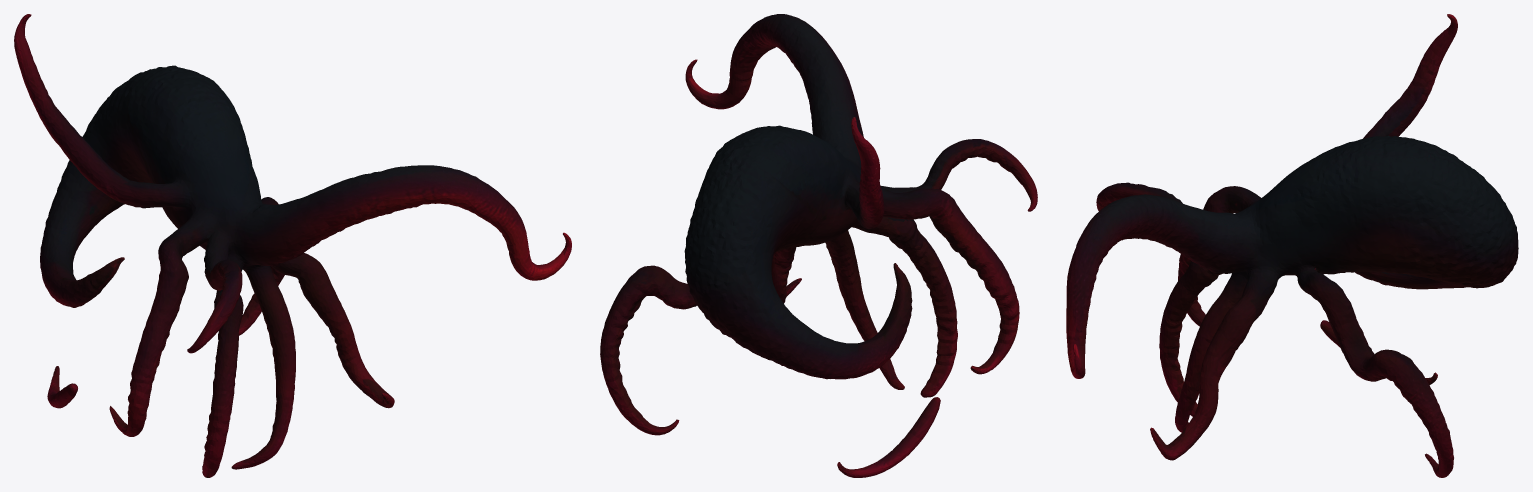
File: floater_tentacle.glb
The picture shows the model from 3 angles, left to right: view 1: azimuth 30°, elevation 25°; view 2: azimuth 150°, elevation 25°; view 3: azimuth 270°, elevation 25°; orthographic projection.
Parts seen in each view (by area): view 1: textured_mesh.obj; view 2: textured_mesh.obj; view 3: textured_mesh.obj.
Boxes of the visible parts, left/top/right/bottom form: textured_mesh.obj: left=14, top=14, right=571, bottom=477; textured_mesh.obj: left=600, top=14, right=1037, bottom=477; textured_mesh.obj: left=1066, top=14, right=1518, bottom=477.
Bounding box in the file's own units: 1.94 × 1.84 × 1.99.
Materials: 1 (1 with a texture image).
